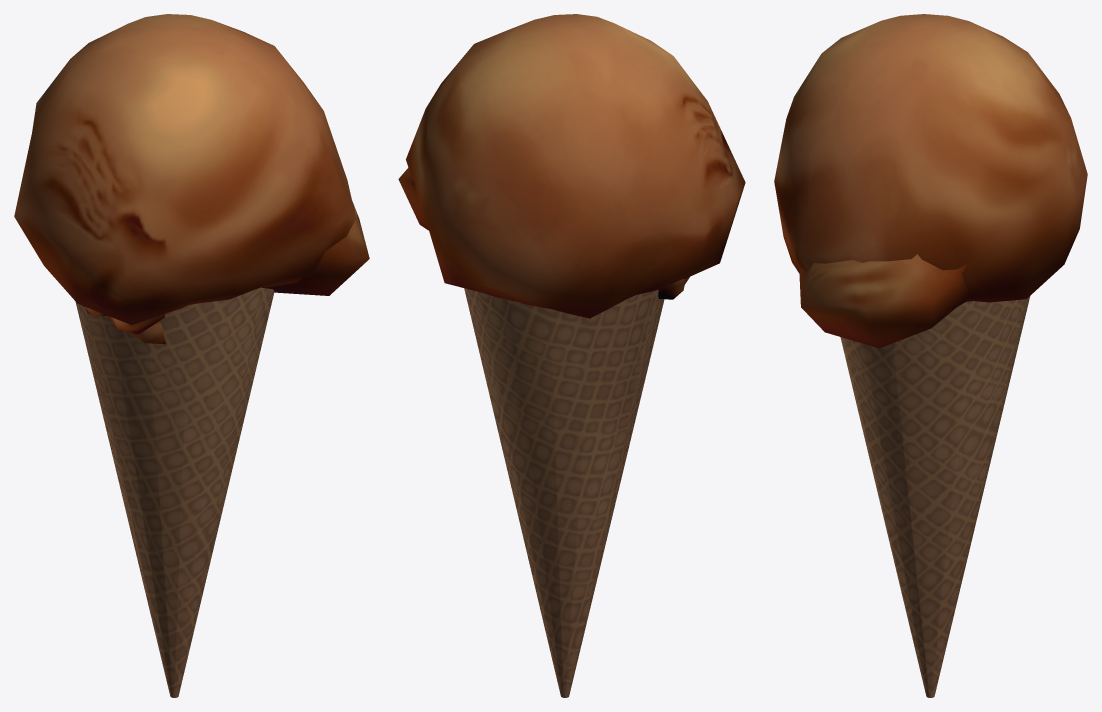
The model's file is icecreamChoco.fbx.
3 renders of one model, left to right at view 1: azimuth 30°, elevation 25°; view 2: azimuth 150°, elevation 25°; view 3: azimuth 270°, elevation 25°, orthographic.
Parts seen in each view (by area): view 1: icecreamChoco; view 2: icecreamChoco; view 3: icecreamChoco.
Boxes of the visible parts, x1=… form: icecreamChoco: x1=14, y1=14, x2=369, y2=697; icecreamChoco: x1=398, y1=14, x2=745, y2=697; icecreamChoco: x1=774, y1=14, x2=1087, y2=697.
Size of the model in its own units: 24.93 by 50.37 by 21.42.
